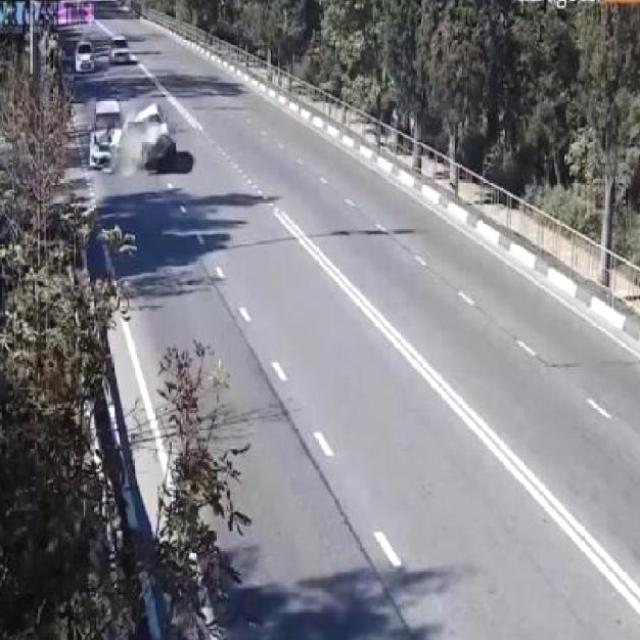accident: (76, 87, 194, 184)
